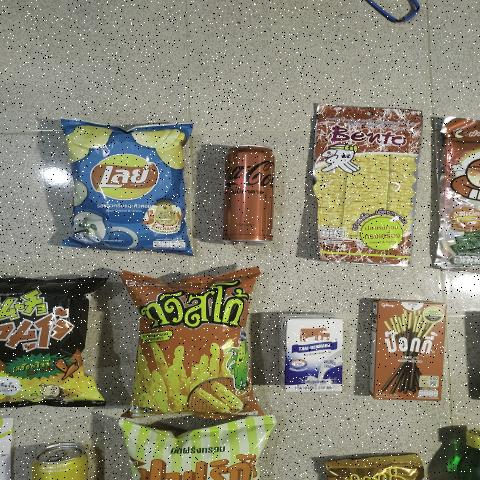bento_red: (316, 102, 420, 258)
coke_red: (220, 143, 273, 245)
karamujo: (0, 274, 112, 405)
lay_blue: (67, 128, 189, 248)
pokki: (368, 301, 446, 400)
thai_denmark: (280, 315, 340, 396)
twisco: (142, 280, 250, 407)
